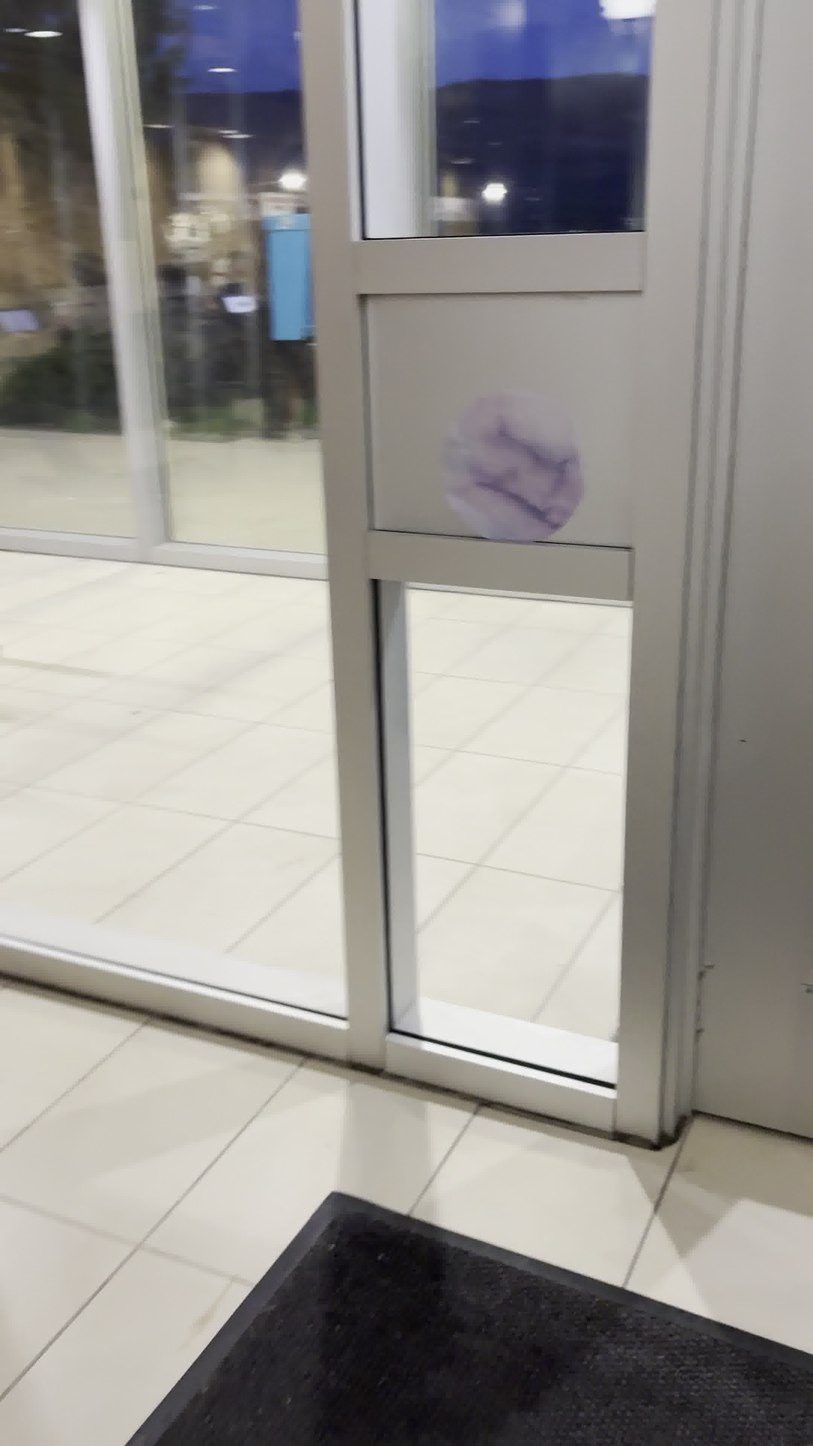Target: (437, 391, 589, 547)
